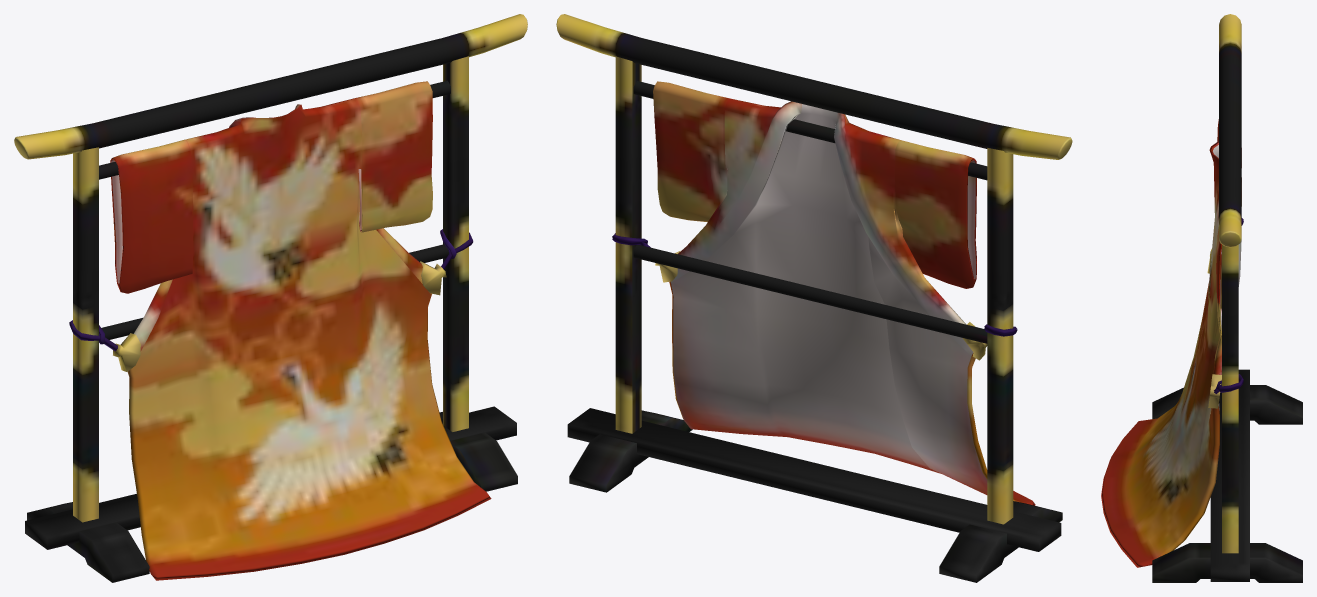
3 renders of one model, left to right at view 1: azimuth 30°, elevation 25°; view 2: azimuth 150°, elevation 25°; view 3: azimuth 270°, elevation 25°, orthographic. The views are drawn at different scales.
Size of the model in its own units: 19.38 by 15.5 by 7.59.
Materials: 1 (1 with a texture image).
